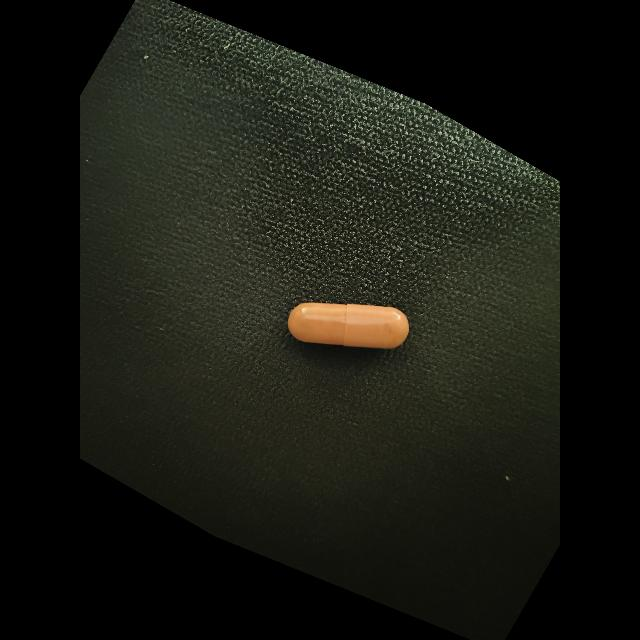Intact Capsule: (288, 303, 409, 349)
